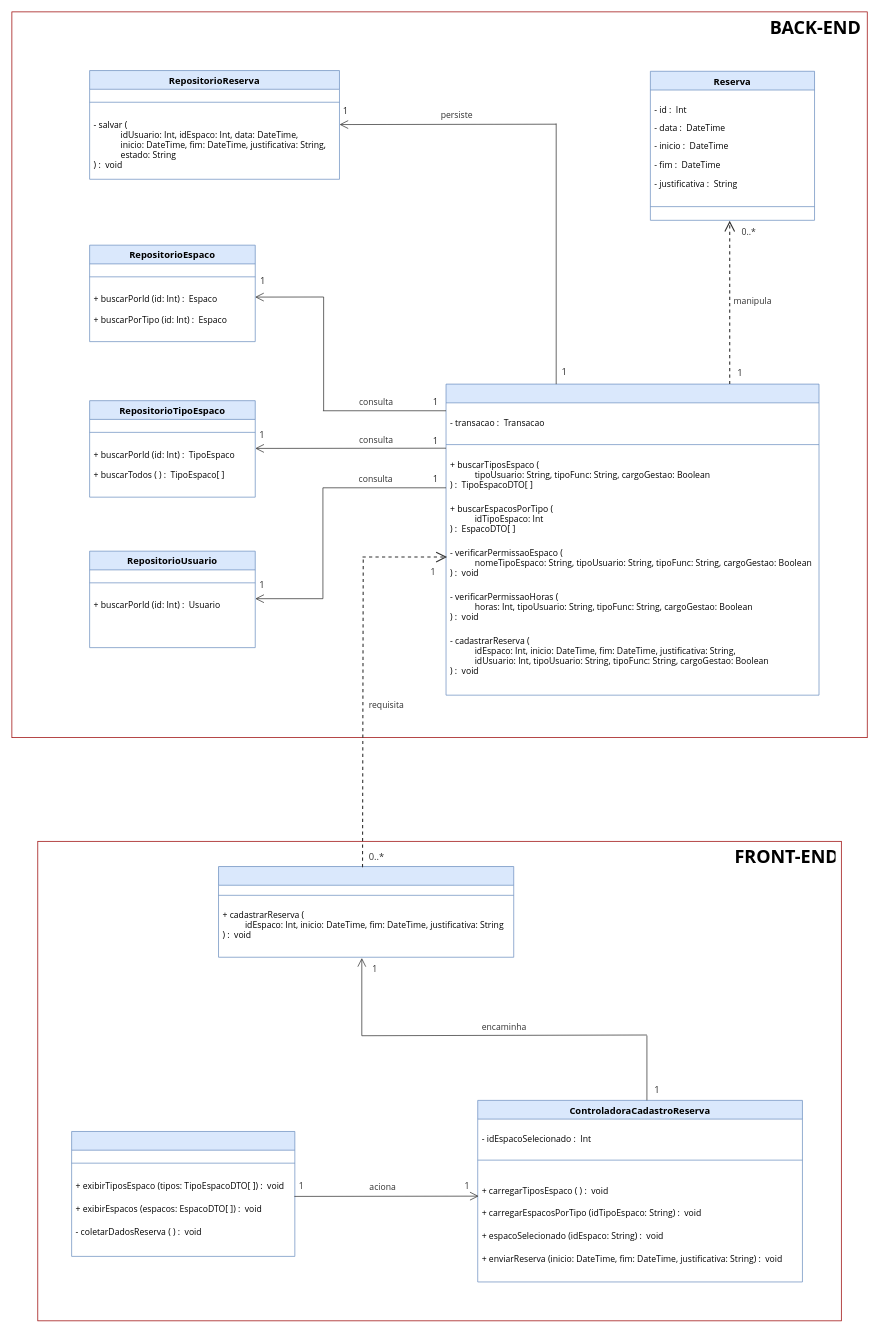
Image size: 886x1333. Some labels were removed from this diagram. The box of each missing label's shape, as (x1, y1, x2, y2) in pixels:
GestorCadastroReserva: (218, 866, 514, 957)
ServicoCadastroReserva: (445, 383, 819, 695)
VisaoCadastroReserva: (71, 1131, 295, 1256)
